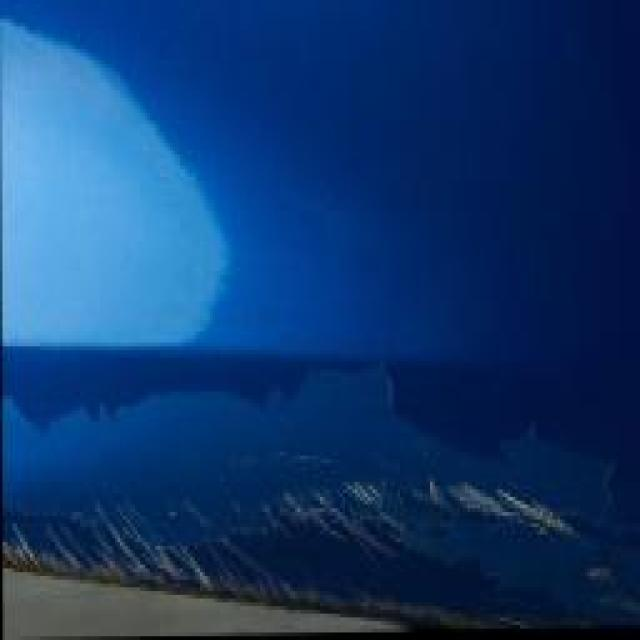Door: (0, 230, 639, 640)
